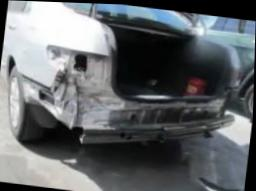Bumper: (20, 45, 170, 145)
